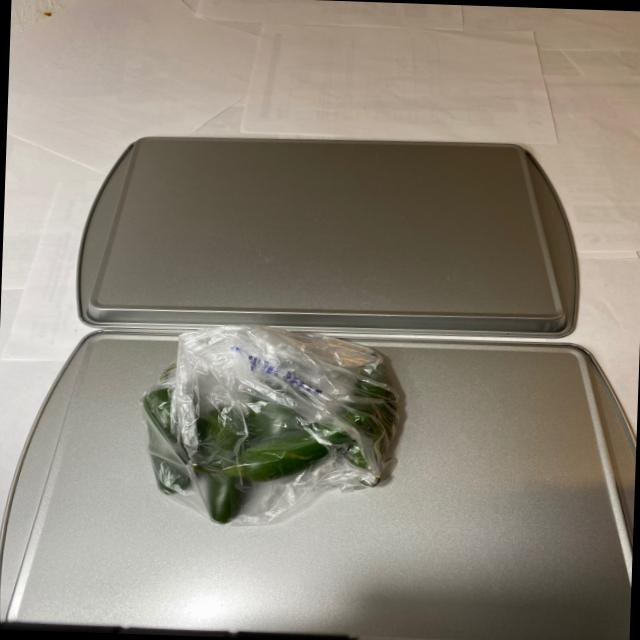chilli: (139, 332, 406, 532)
